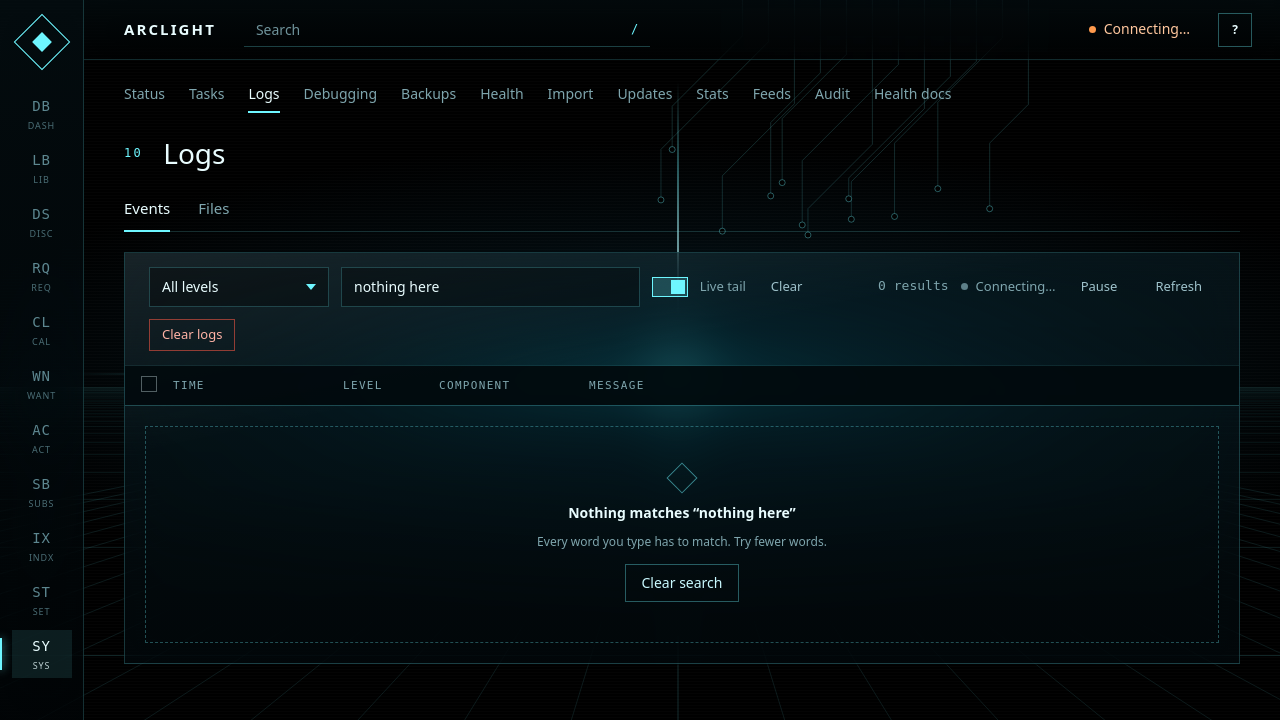
Test: System → Logs search › offers Clear search when nothing matches
Click the button "Clear search" at {"x": 682, "y": 583}, box [624,564,740,602]
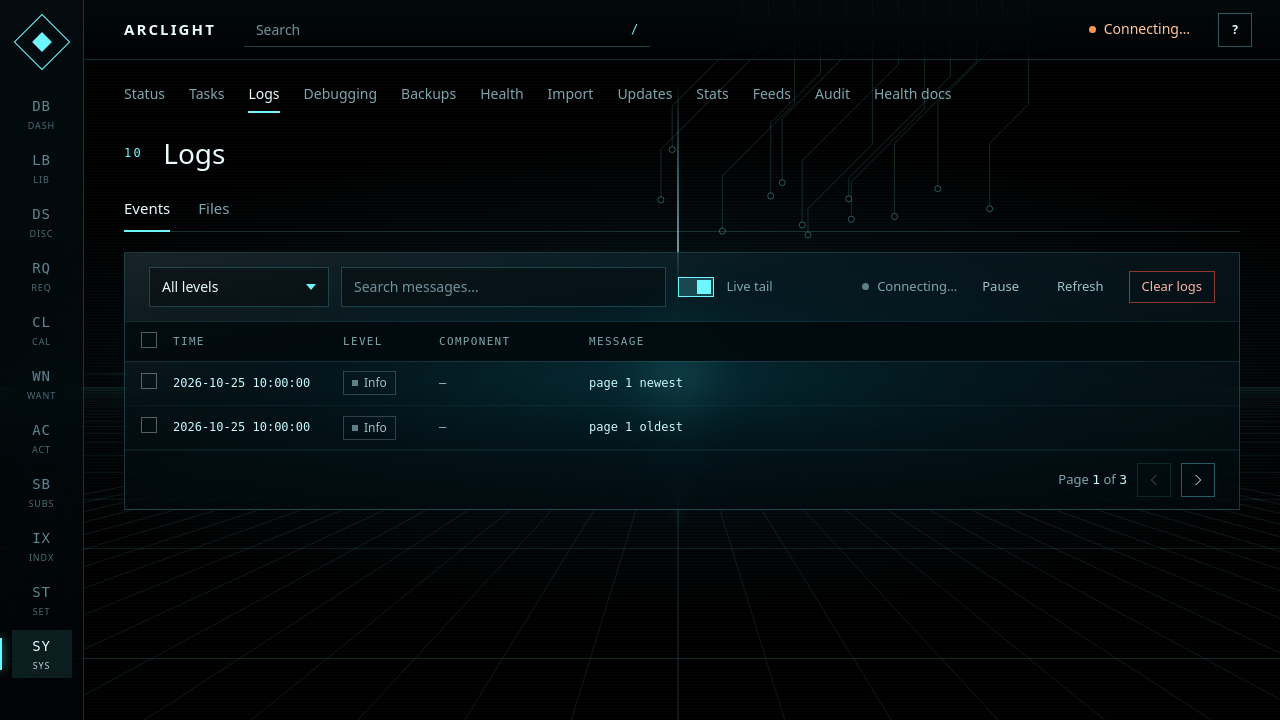
Check: the text "page 1 newest" is shown, box [589,376,683,390]
Check: the search field named "Search logs" is empty, box [341,267,666,307]
